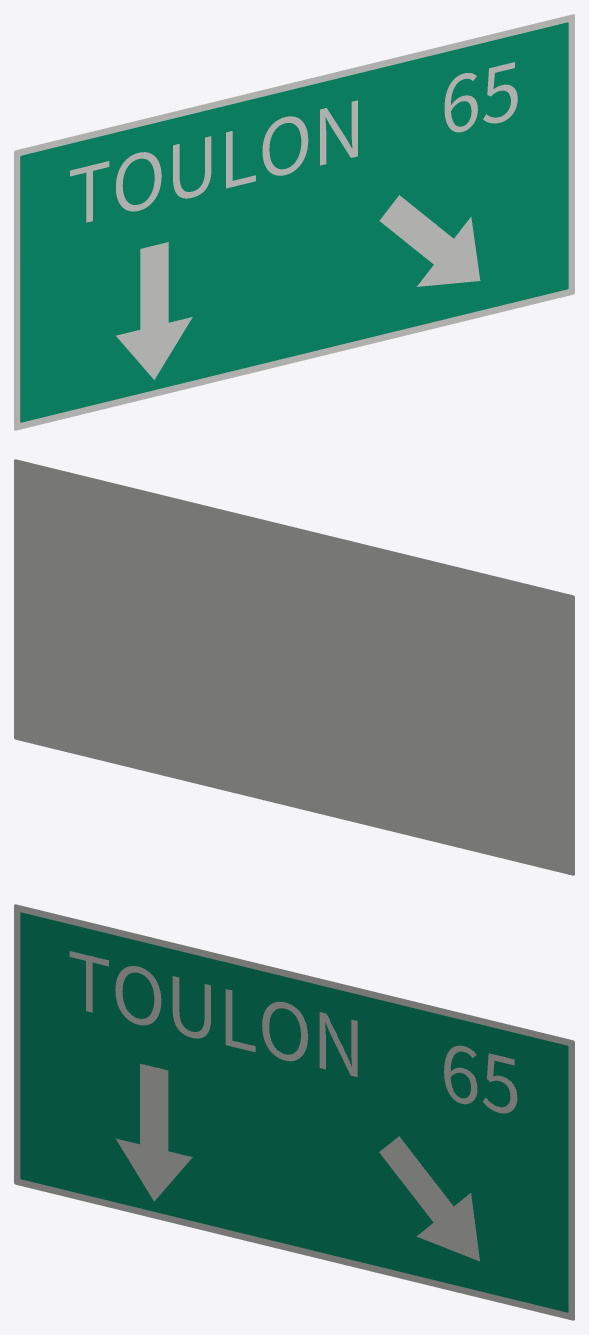
The picture shows the model from 3 angles, top to bottom: view 1: azimuth 30°, elevation 25°; view 2: azimuth 150°, elevation 25°; view 3: azimuth 330°, elevation 25°; orthographic projection.
Parts seen in each view (by area): view 1: Da52_reg01, Da52_lis00, Da52_txt04, Da52_voie02, Da52_voie03, Da52_txt05; view 2: Da52_lis00; view 3: Da52_reg01, Da52_lis00, Da52_txt04, Da52_voie02, Da52_voie03, Da52_txt05.
Part boxes in pixels (x1=…): Da52_reg01: x1=20, y1=22, x2=568, y2=422; Da52_lis00: x1=14, y1=14, x2=574, y2=430; Da52_txt04: x1=70, y1=100, x2=357, y2=222; Da52_voie02: x1=116, y1=242, x2=192, y2=379; Da52_voie03: x1=379, y1=195, x2=480, y2=286; Da52_txt05: x1=444, y1=62, x2=517, y2=132; Da52_lis00: x1=14, y1=459, x2=574, y2=875; Da52_reg01: x1=20, y1=912, x2=568, y2=1312; Da52_lis00: x1=14, y1=904, x2=574, y2=1320; Da52_txt04: x1=69, y1=951, x2=357, y2=1077; Da52_voie02: x1=116, y1=1063, x2=192, y2=1201; Da52_voie03: x1=379, y1=1136, x2=479, y2=1261; Da52_txt05: x1=444, y1=1045, x2=517, y2=1113.
Bounding box in the file's own units: 3.35 × 1.6 × 0.0024.
